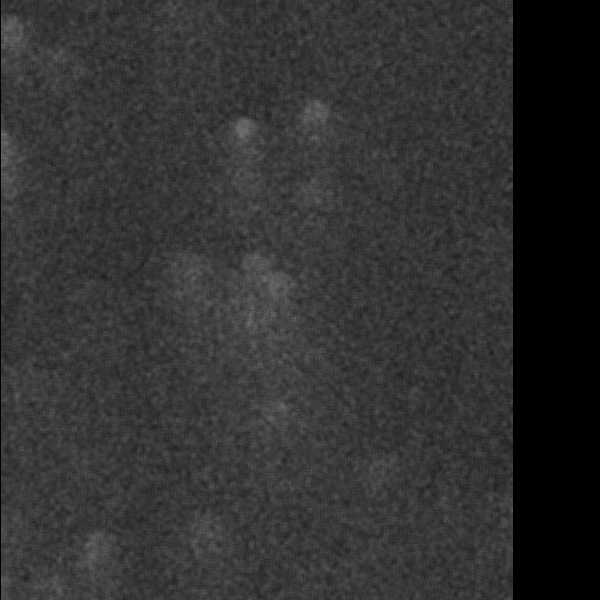spark: (74, 515, 109, 600), (303, 96, 335, 130), (252, 393, 284, 424), (230, 114, 251, 152), (1, 11, 16, 61), (202, 527, 221, 545)
